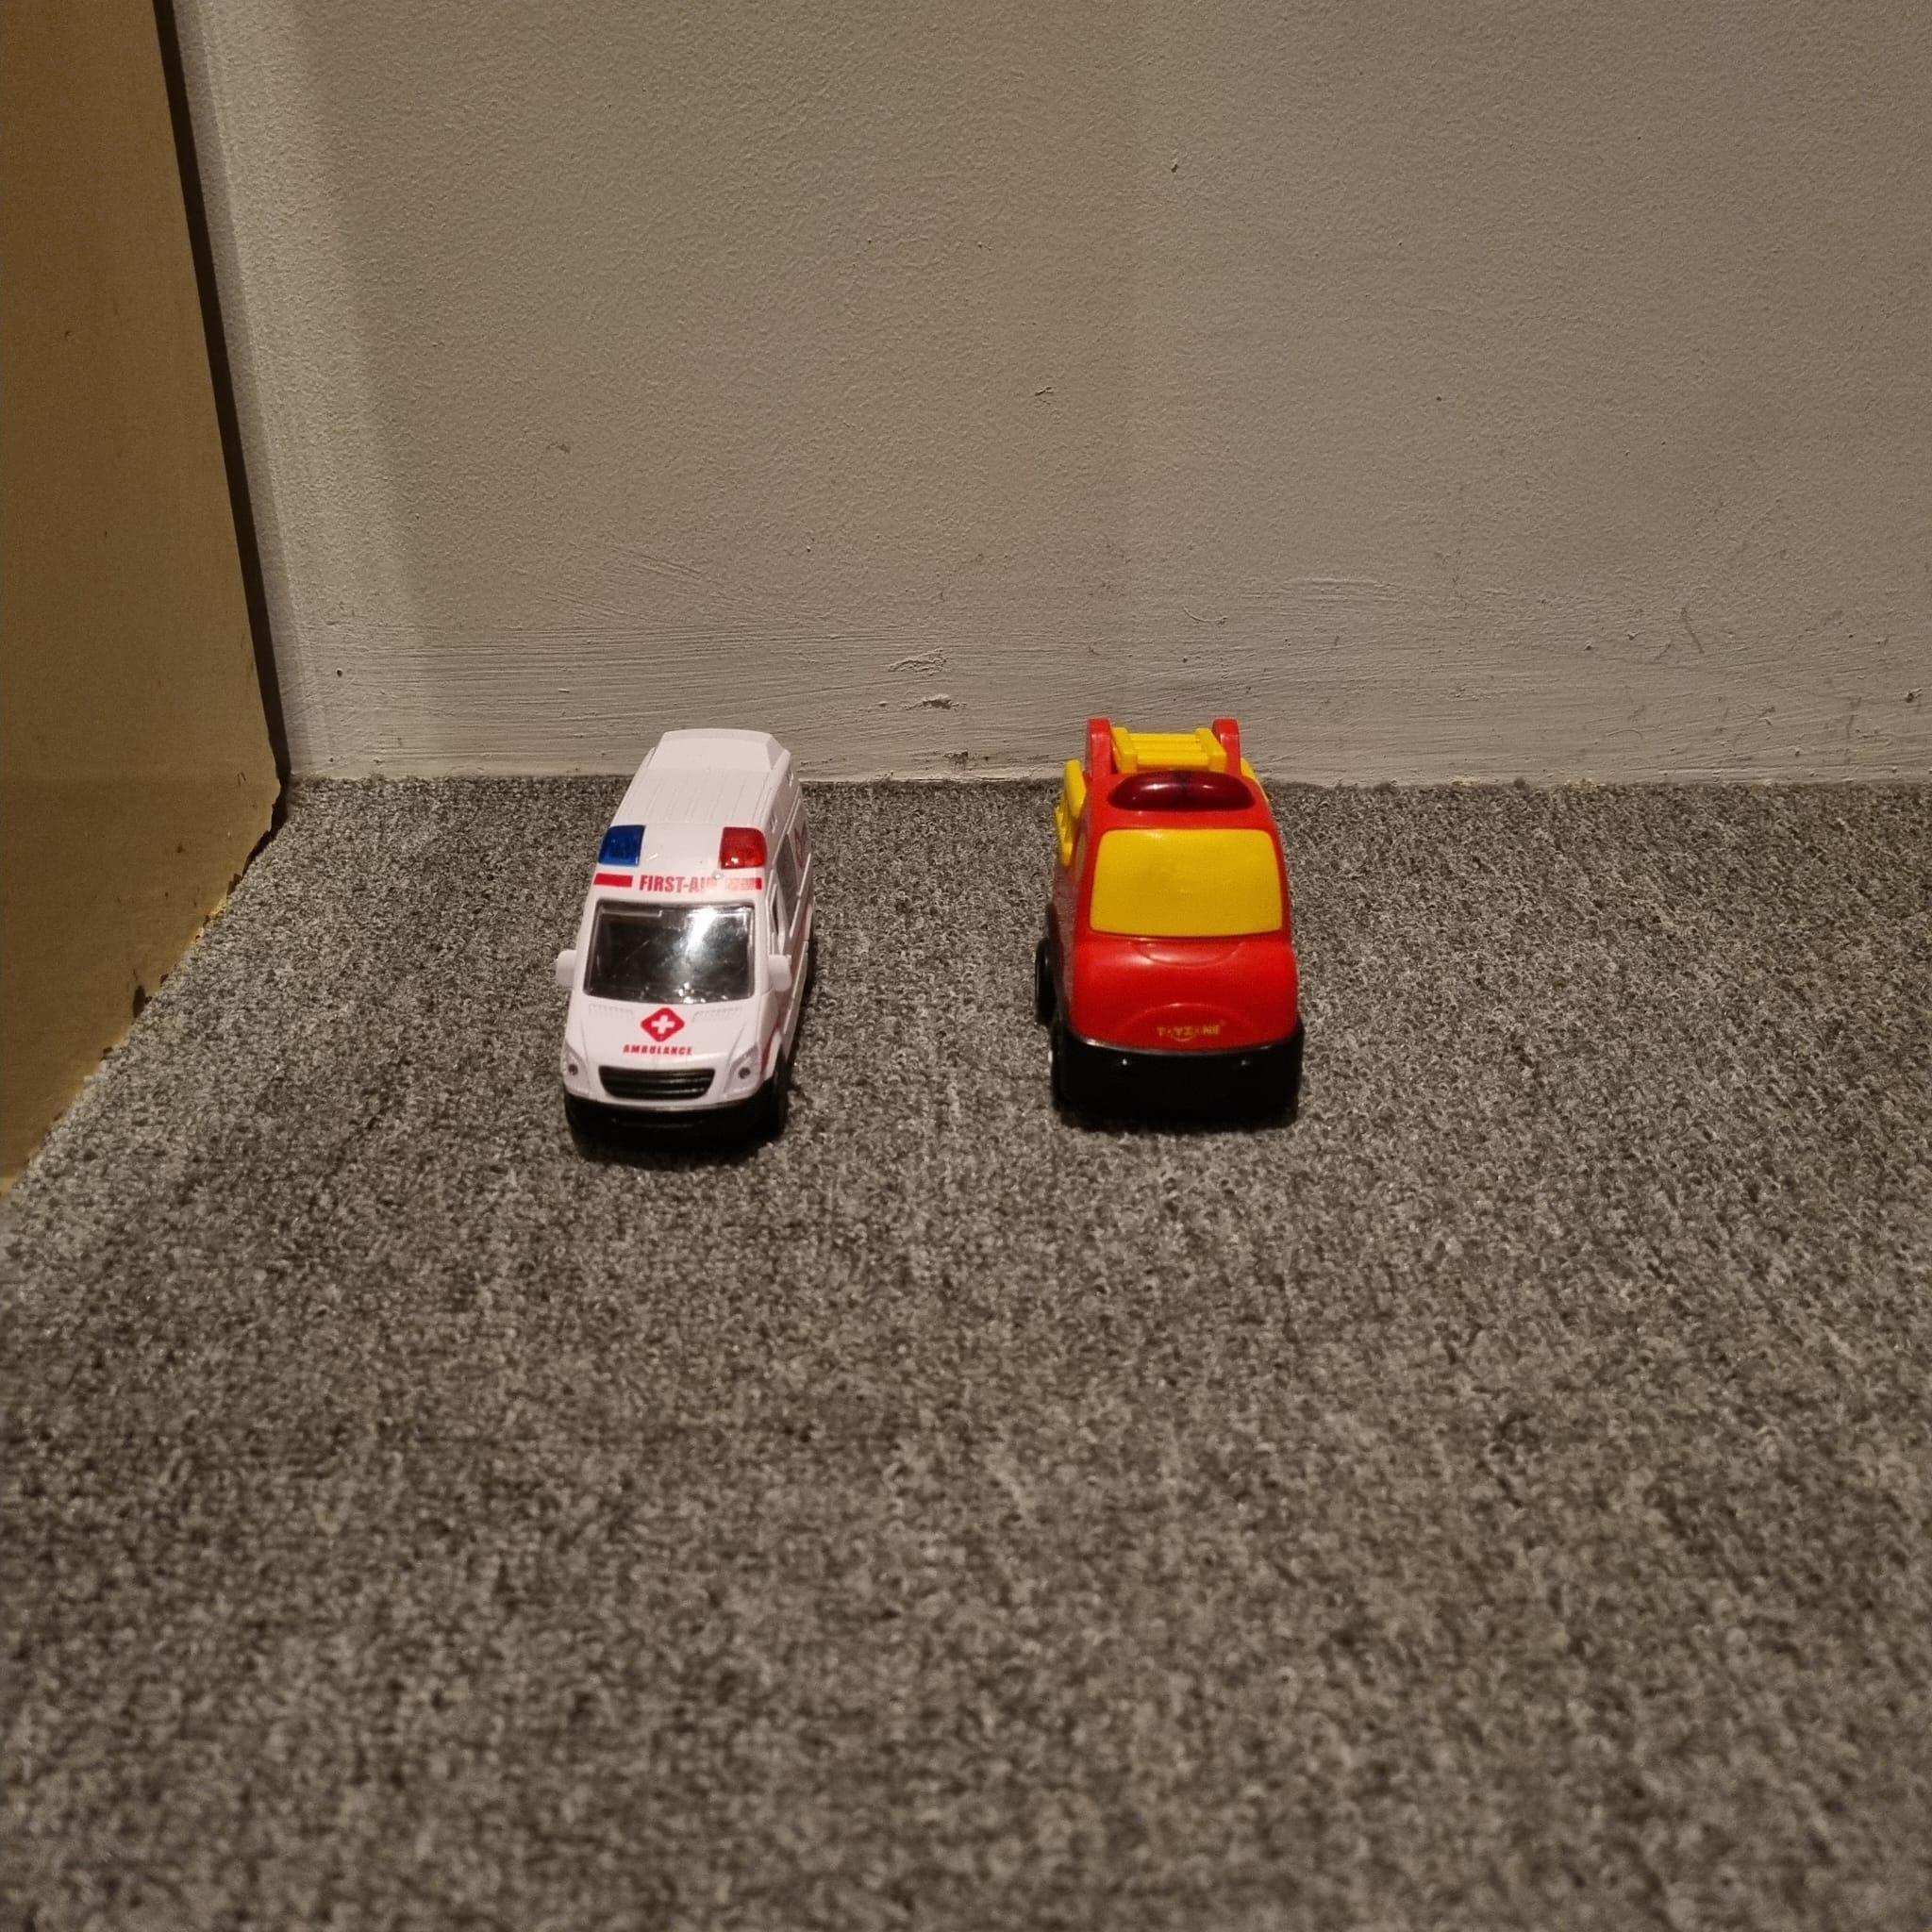ambulance_off: (556, 727, 814, 1131)
firetruck_off: (1035, 715, 1304, 1120)
